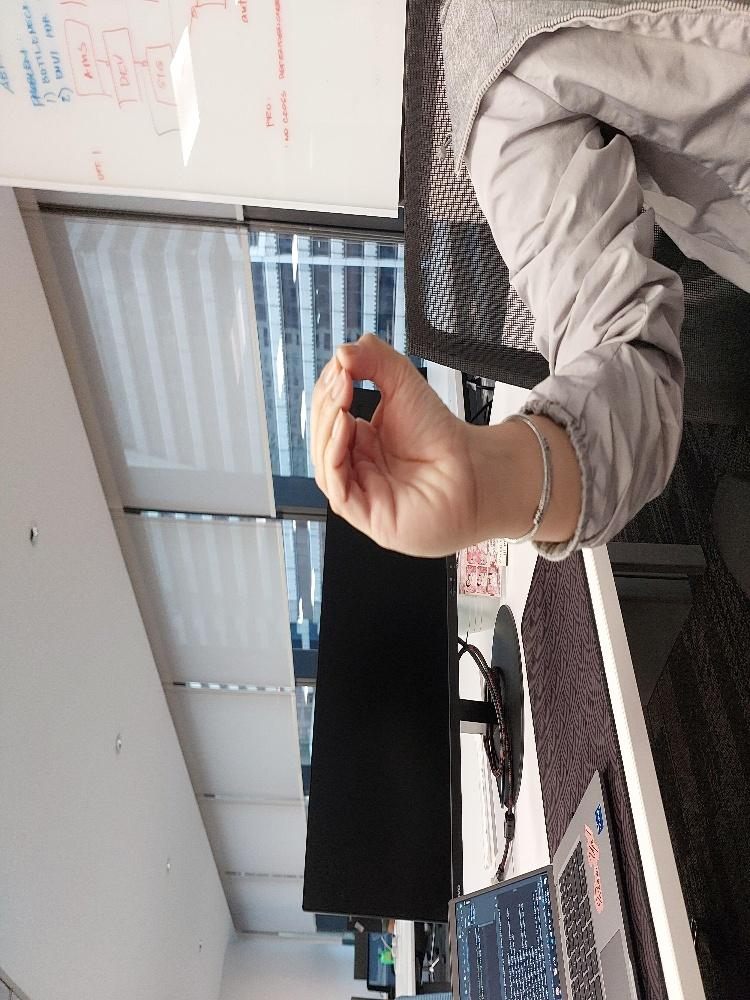o: (330, 409, 503, 631)
